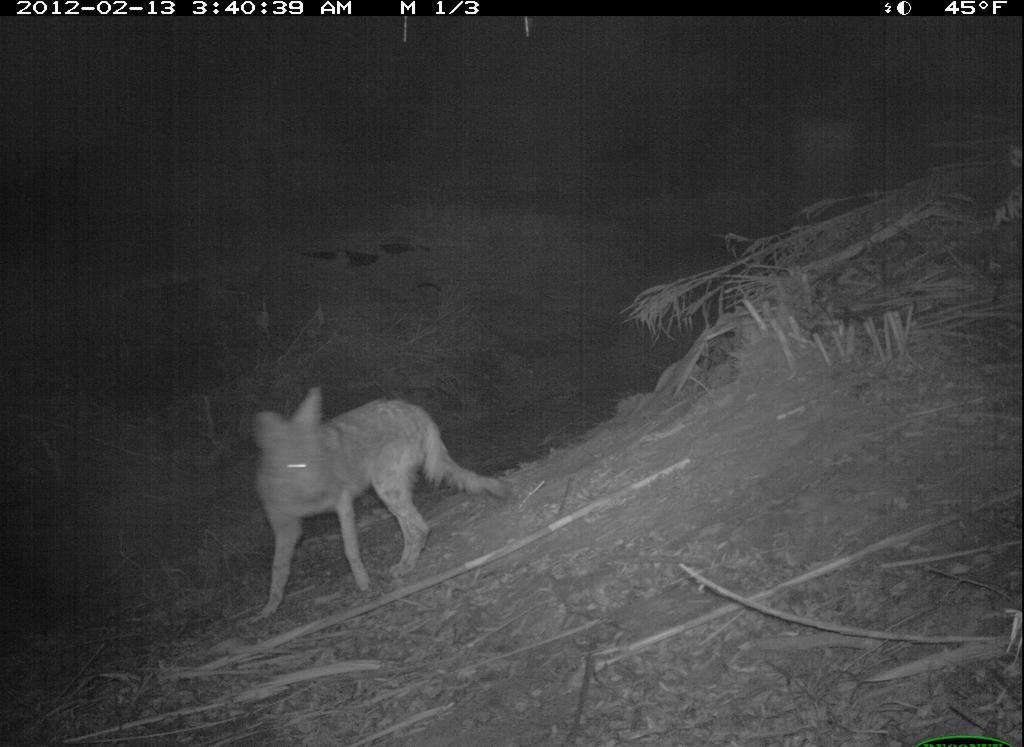coyote: (246, 381, 514, 625)
